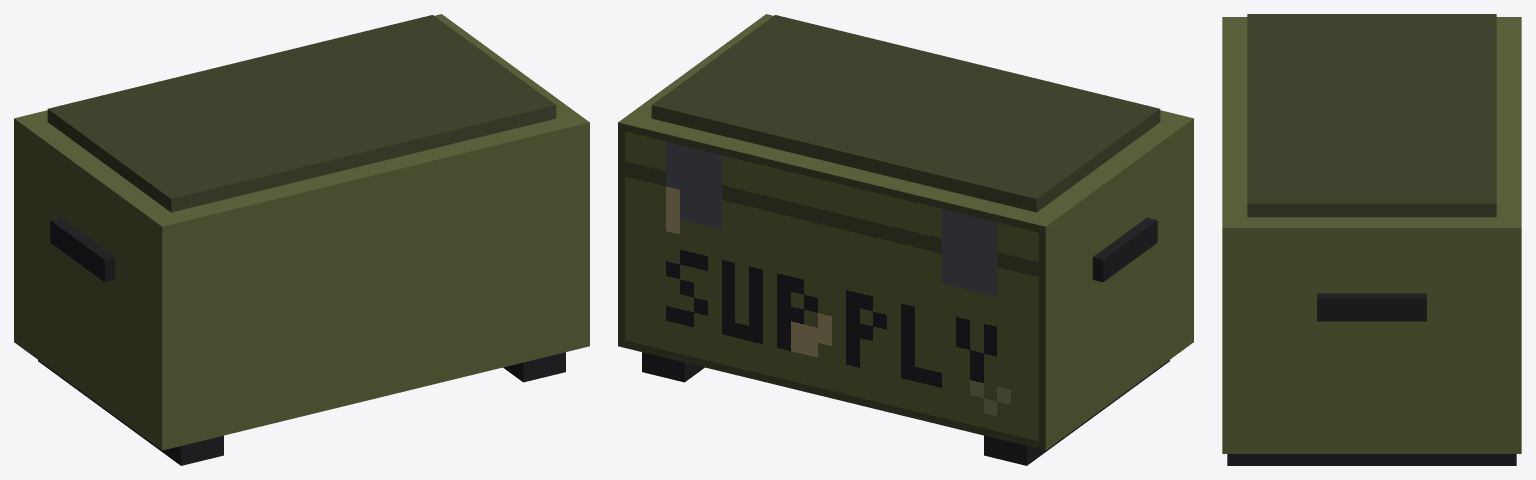
File: hard_case.glb
3 renders of one model, left to right at view 1: azimuth 30°, elevation 25°; view 2: azimuth 150°, elevation 25°; view 3: azimuth 270°, elevation 25°, orthographic.
Visible parts, largest first — view 1: hard_case; view 2: hard_case; view 3: hard_case.
Boxes of the visible parts, x1,y1,x2,y2 form: hard_case: (14, 14, 589, 465); hard_case: (618, 14, 1193, 465); hard_case: (1222, 14, 1521, 465).
Bounding box in the file's own units: 1.05 × 0.58 × 0.6.
Materials: 4 (4 with a texture image).
